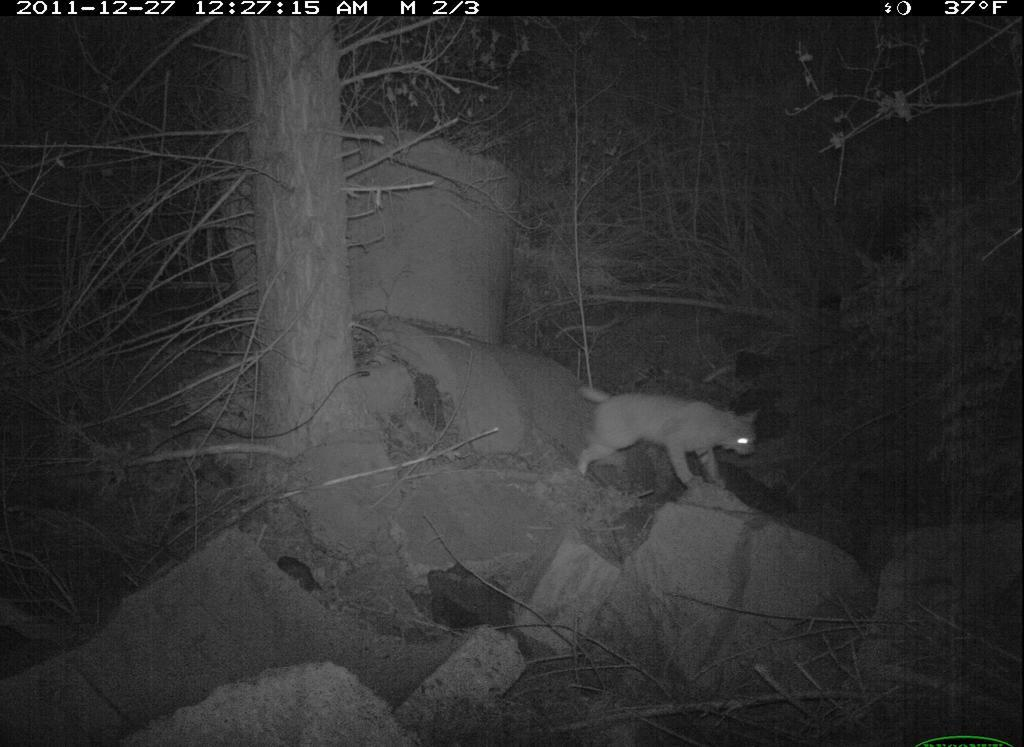bobcat: (551, 326, 807, 574)
